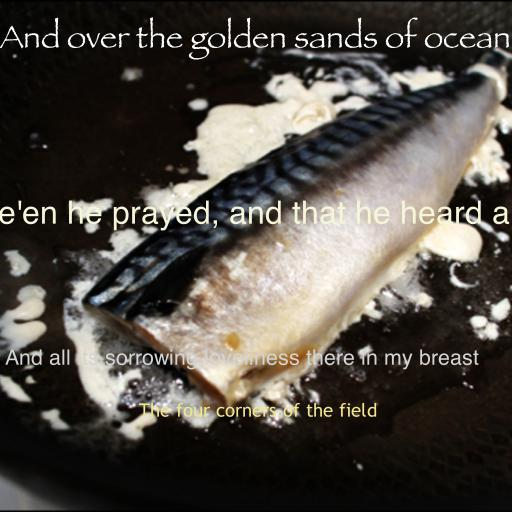Papyrus: (0, 17, 511, 60)
SF Pro: (0, 200, 512, 231)
SignPainter: (5, 349, 479, 370)
Trebuchet MS: (139, 402, 377, 417)
